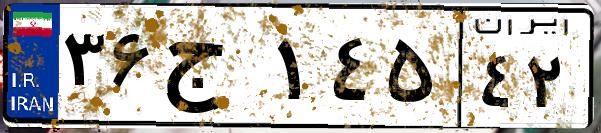1: (270, 28, 330, 110)
2: (525, 38, 570, 115)
3: (57, 26, 110, 100)
4: (330, 28, 385, 110), (475, 38, 525, 113)
5: (385, 28, 445, 110)
6: (110, 28, 158, 98)
ج: (158, 20, 270, 120)
